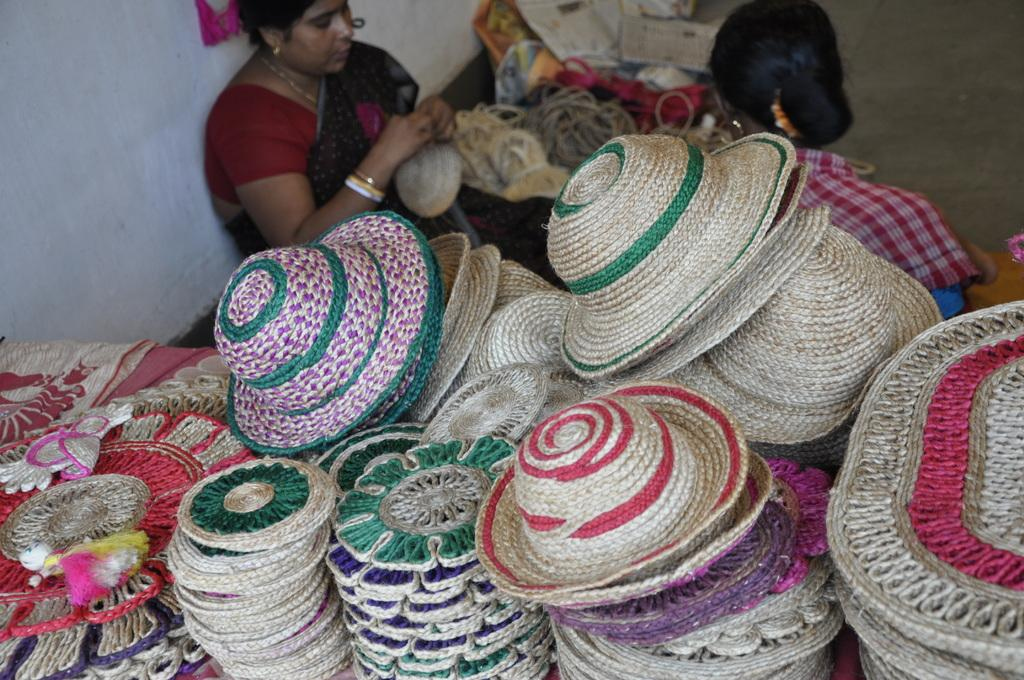Hat: (211, 128, 937, 598)
